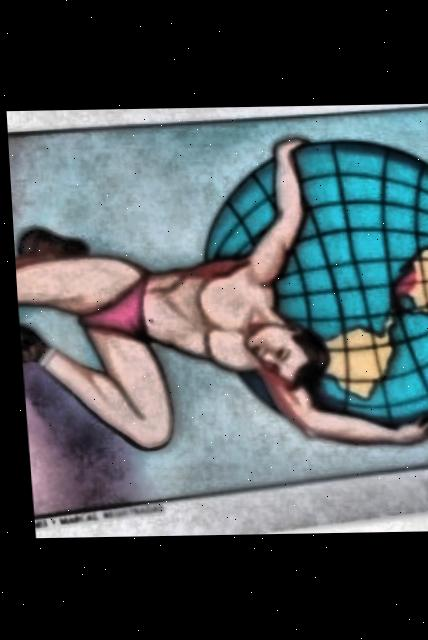El Mundo: (7, 107, 428, 509)
